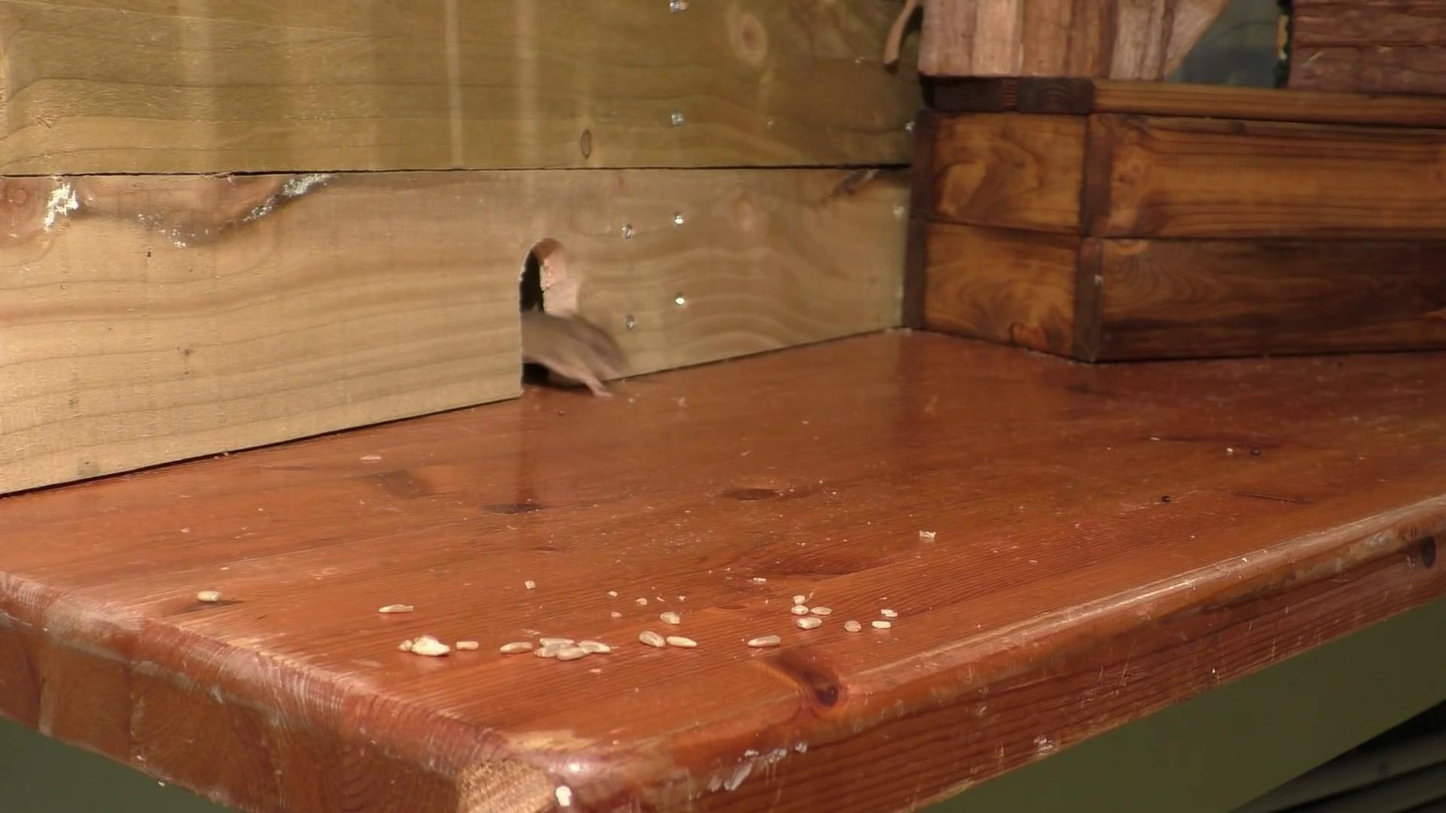rat: (521, 305, 633, 397)
